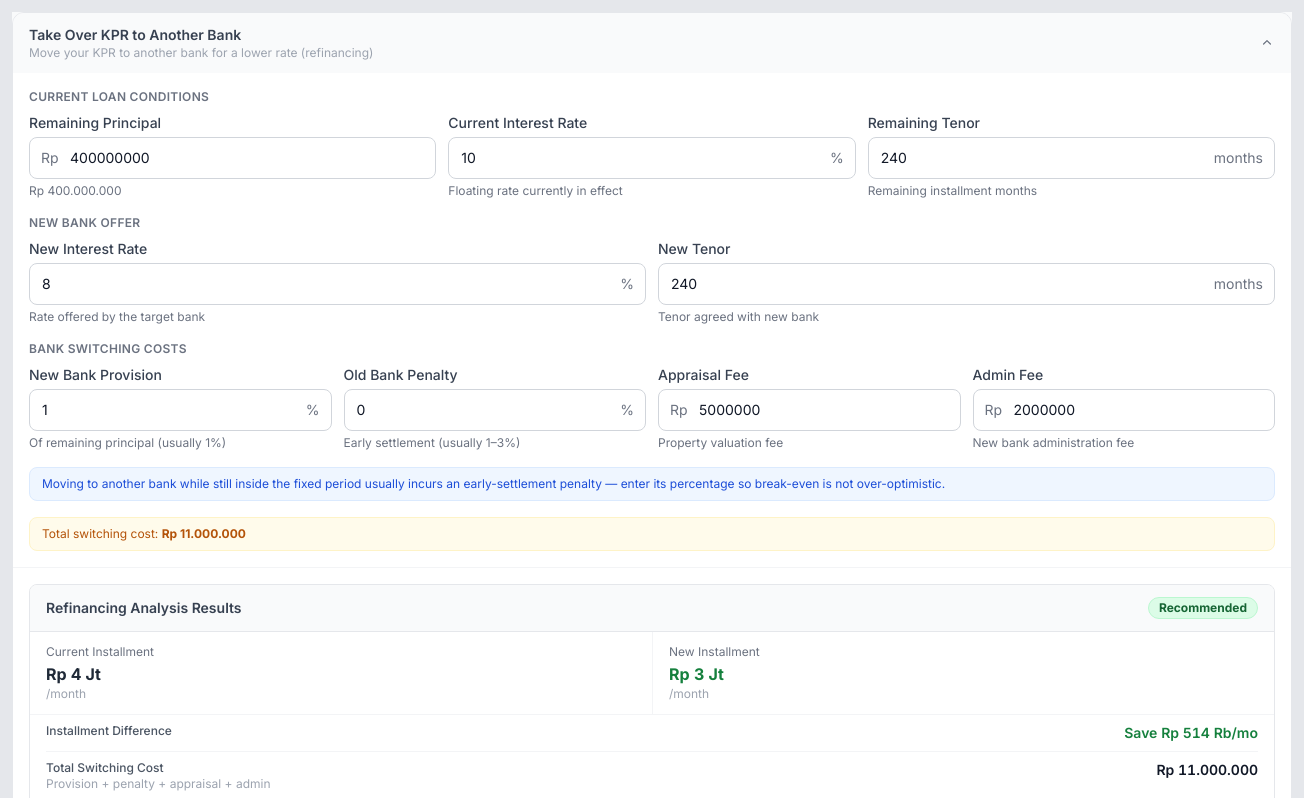
Test: RefinancingPanel — old-bank penalty › adds the penalty to the switching-cost preview
Expected: the text "Rp 11.000.000" next to "Total switching cost:" is shown, x1=162 y1=526 x2=246 y2=541
Type "2" into the number field labelled "Old Bank Penalty". click: (495, 410)
box: x1=344 y1=389 x2=646 y2=431
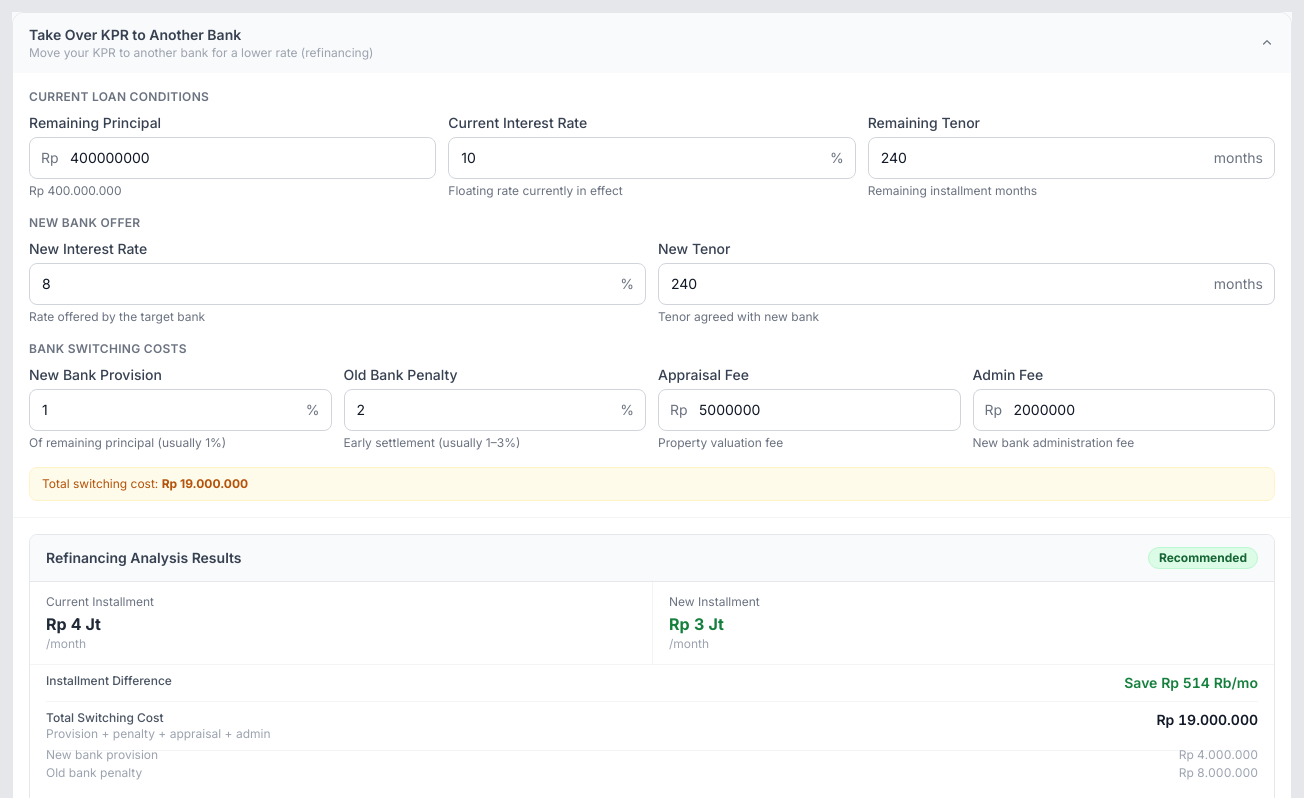
Result: the text "Rp 19.000.000" next to "Total switching cost:" is shown at x1=162 y1=476 x2=248 y2=491
